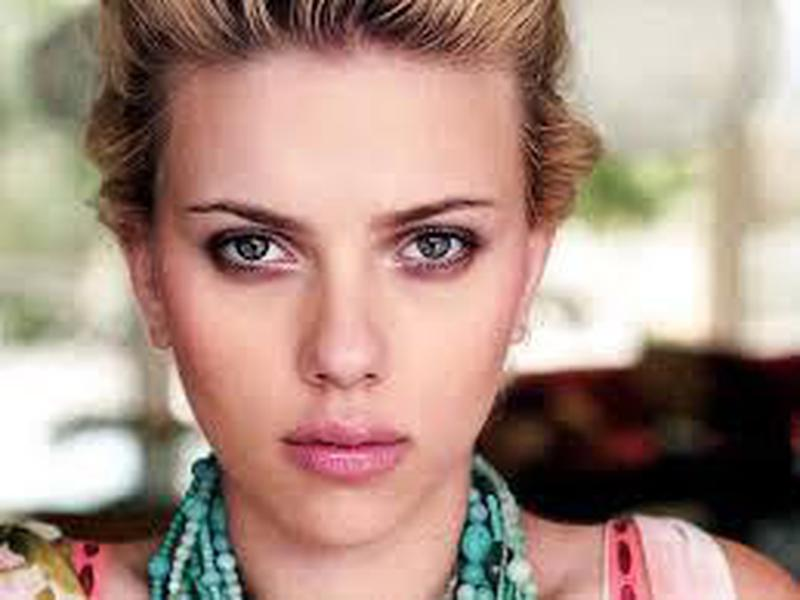without_mask: (144, 74, 527, 544)
